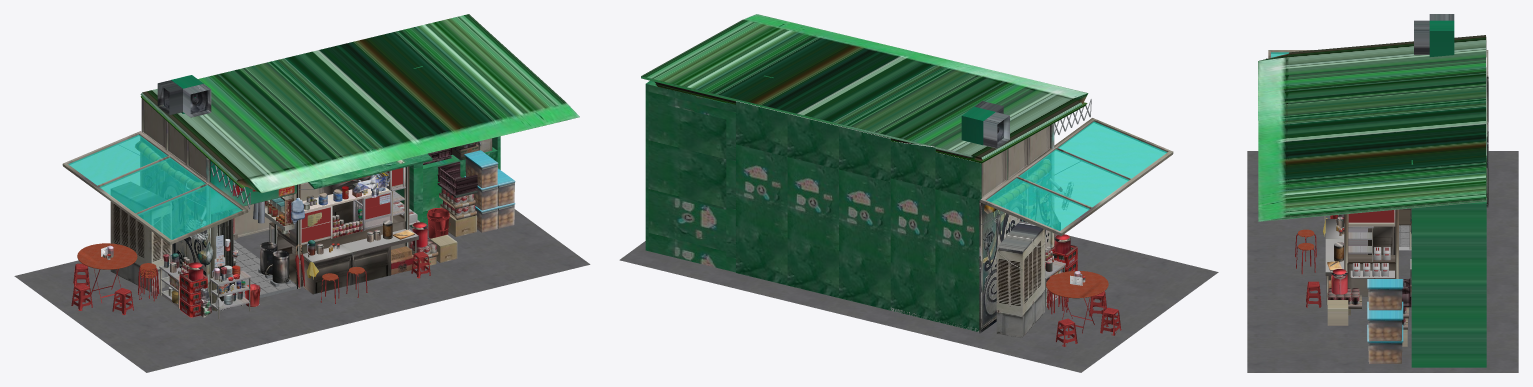
Rendered from hong_kong_food_stall.glb.
3 views of the same model, side by side, from view 1: azimuth 30°, elevation 25°; view 2: azimuth 150°, elevation 25°; view 3: azimuth 270°, elevation 25° (orthographic). The views are drawn at different scales.
Visible parts, largest first — view 1: _3DGeom715, _3DGeom1, _3DGeom337, _3DGeom551, _3DGeom465, _3DGeom336, _3DGeom137 (×4), _3DGeom718, _3DGeom410, _3DGeom408, _3DGeom321, _3DGeom164 (×2) (+21 smaller); view 2: _3DGeom3 (×5), _3DGeom715, _3DGeom1, _3DGeom718, _3DGeom337, _3DGeom551, _3DGeom465, _3DGeom336, _3DGeom153, _3DGeom149, _3DGeom157, _3DGeom163 (+7 smaller); view 3: _3DGeom715, _3DGeom1, _3DGeom718, _3DGeom137 (×3), _3DGeom756, _3DGeom492, _3DGeom547, _3DGeom757, _3DGeom419, _3DGeom439, _3DGeom418, _3DGeom90 (+10 smaller).
Part boxes in pixels (x1,y1,x2,y2): _3DGeom715: [140, 14, 579, 193]; _3DGeom1: [14, 209, 590, 372]; _3DGeom337: [68, 135, 242, 239]; _3DGeom551: [110, 182, 171, 292]; _3DGeom465: [140, 137, 210, 302]; _3DGeom336: [62, 131, 248, 244]; _3DGeom137 (×4): [464, 150, 515, 232]; _3DGeom718: [395, 66, 500, 227]; _3DGeom410: [302, 244, 352, 294]; _3DGeom408: [210, 161, 297, 213]; _3DGeom321: [77, 243, 137, 269]; _3DGeom164 (×2): [166, 120, 206, 178]; _3DGeom3 (×5): [736, 144, 979, 331]; _3DGeom715: [641, 14, 1088, 163]; _3DGeom1: [619, 235, 1218, 372]; _3DGeom718: [645, 75, 773, 272]; _3DGeom337: [986, 121, 1167, 230]; _3DGeom551: [996, 221, 1045, 337]; _3DGeom465: [979, 155, 1050, 333]; _3DGeom336: [980, 118, 1173, 235]; _3DGeom153: [736, 101, 787, 156]; _3DGeom149: [787, 114, 838, 169]; _3DGeom157: [839, 126, 890, 181]; _3DGeom163: [890, 141, 935, 188]; _3DGeom715: [1258, 35, 1486, 221]; _3DGeom1: [1247, 151, 1518, 372]; _3DGeom718: [1411, 160, 1486, 367]; _3DGeom137 (×3): [1367, 279, 1403, 363]; _3DGeom756: [1429, 20, 1454, 56]; _3DGeom492: [1368, 226, 1395, 254]; _3DGeom547: [1327, 300, 1348, 325]; _3DGeom757: [1414, 20, 1429, 54]; _3DGeom419: [1347, 209, 1410, 263]; _3DGeom439: [1348, 210, 1394, 222]; _3DGeom418: [1347, 264, 1395, 296]; _3DGeom90: [1331, 269, 1347, 294].
Size of the model in its own units: 8.95 by 3.63 by 4.62.
Materials: 44 (42 with a texture image).
